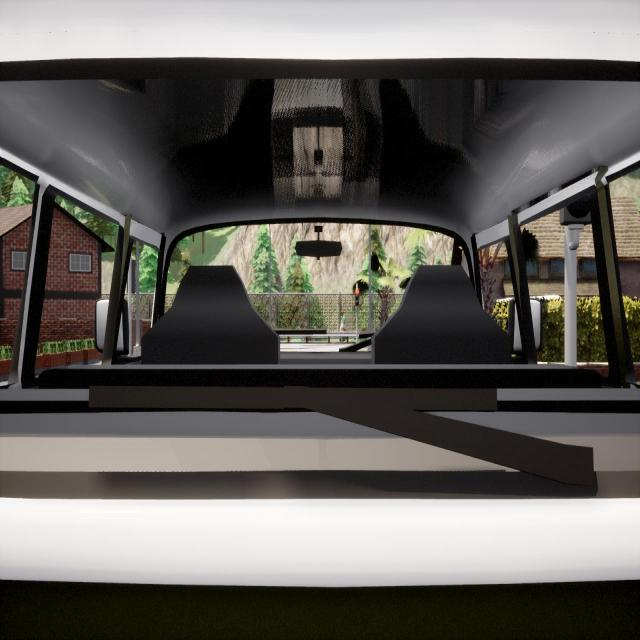Pedestrian: (339, 311, 347, 342)
Vehicle: (0, 0, 640, 640)
traffic_light: (562, 190, 594, 227), (126, 259, 136, 294), (355, 289, 359, 306)
